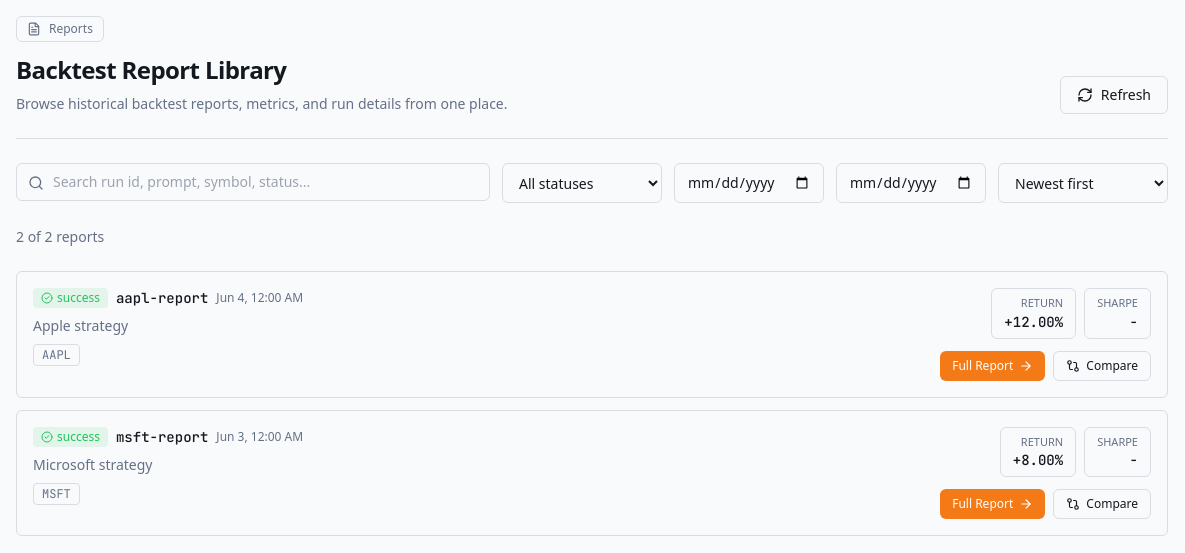
Test case: Reports page › filters reports by search text
Expected: the link "aapl-report" is shown, [116,288,208,308]
In the field labelled "Search": (253, 182) [16,163,490,201], type "MSFT"
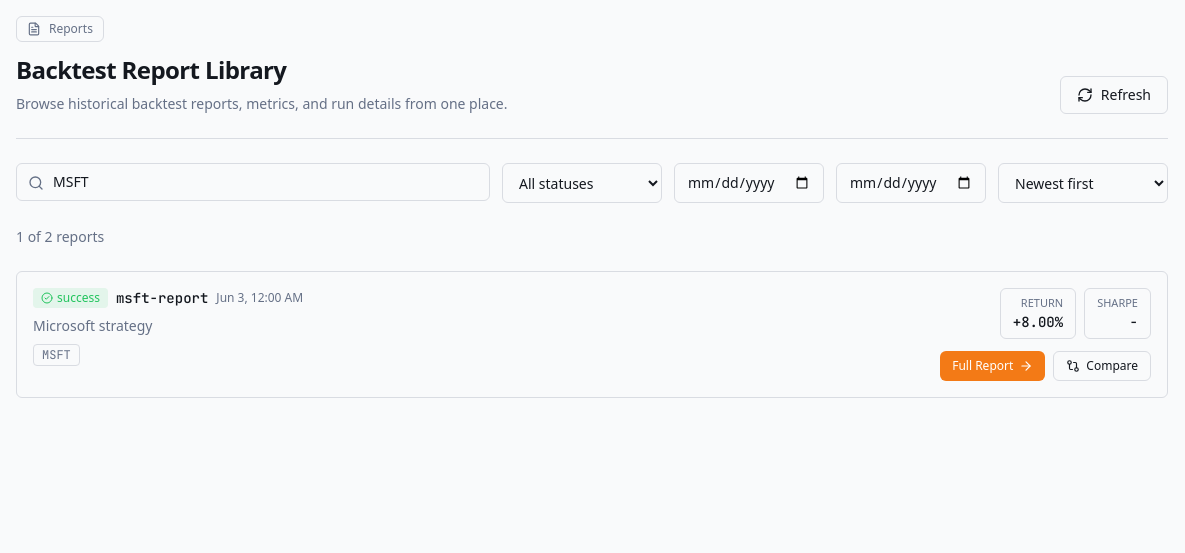
Expected: the link "msft-report" is shown, [116,288,208,308]
Now the link "aapl-report" is gone
